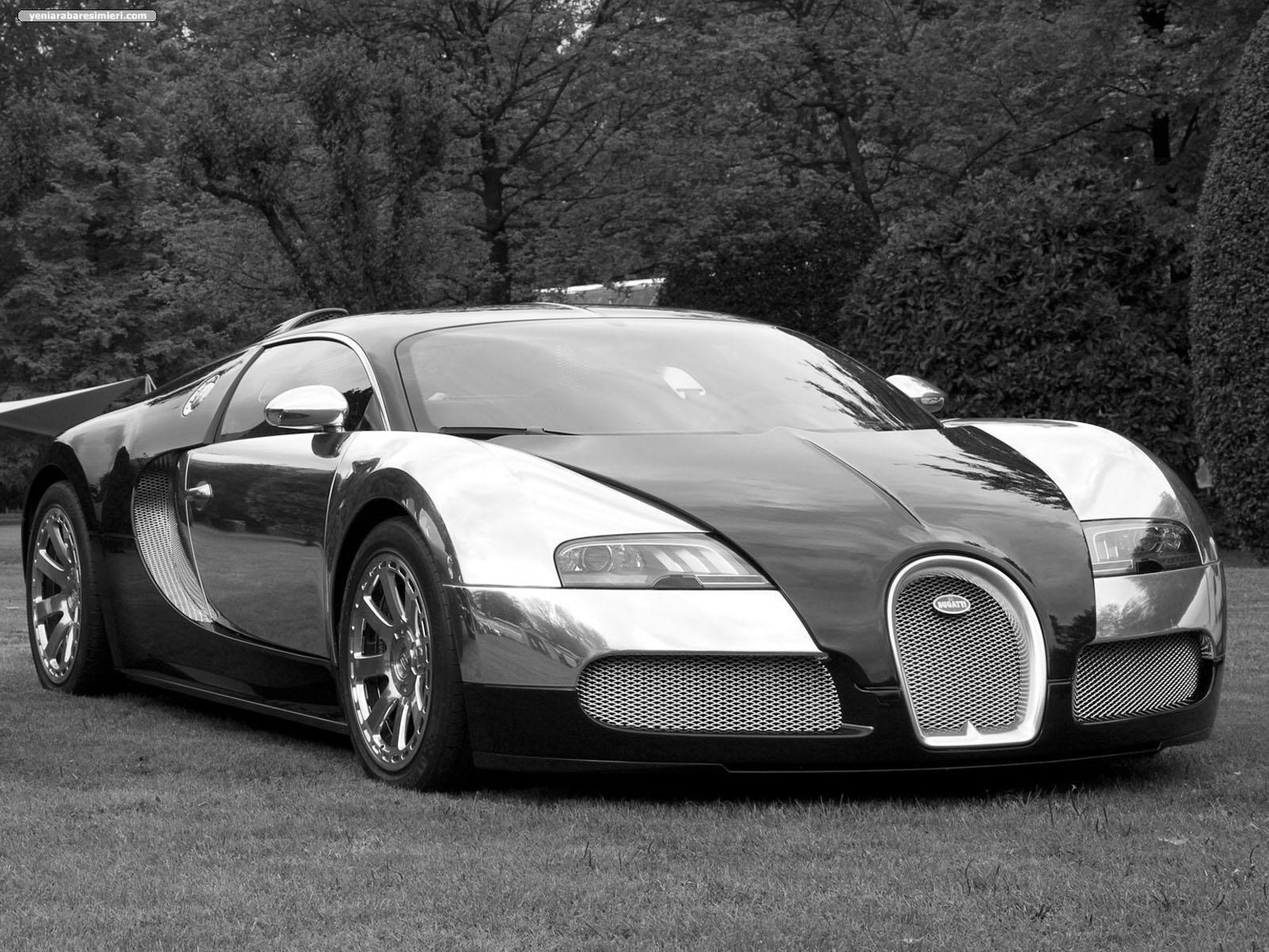car: (3, 301, 1226, 791)
